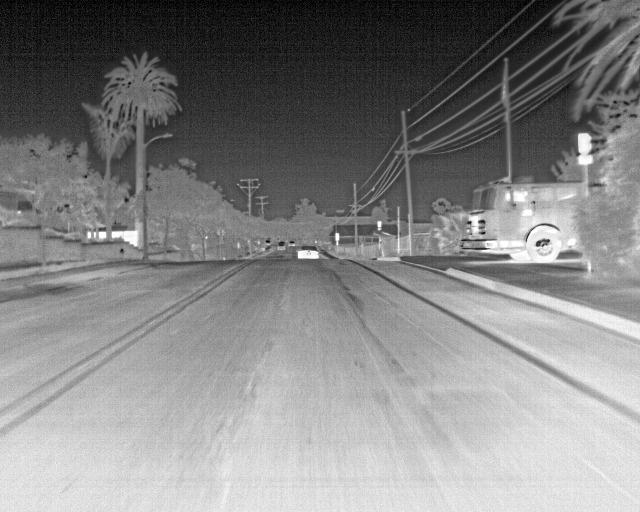car: (297, 244, 320, 258), (275, 240, 286, 252), (285, 238, 296, 249)
